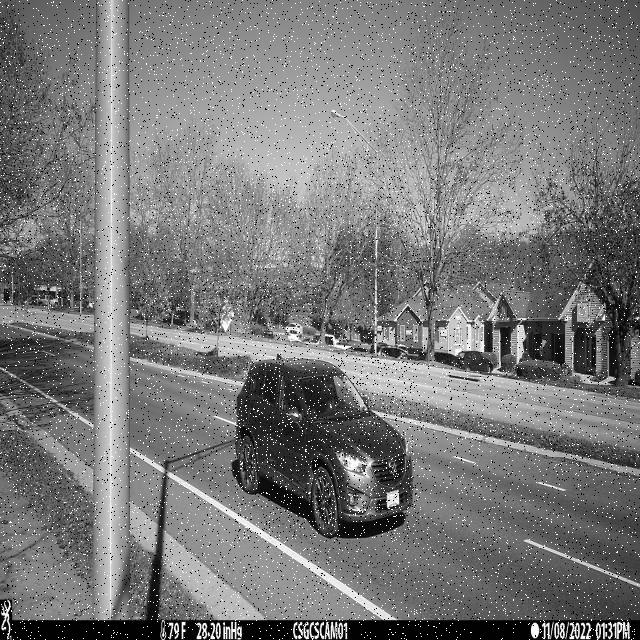SUV: (235, 358, 417, 539)
